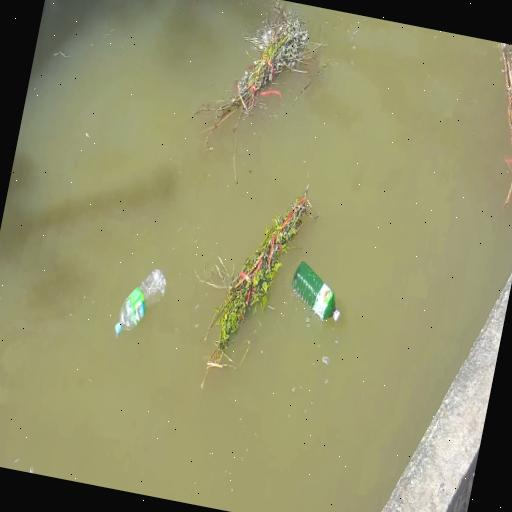plastic: (112, 262, 169, 350), (286, 256, 350, 328)
twig: (196, 185, 308, 374), (206, 12, 323, 162), (470, 43, 512, 204)
